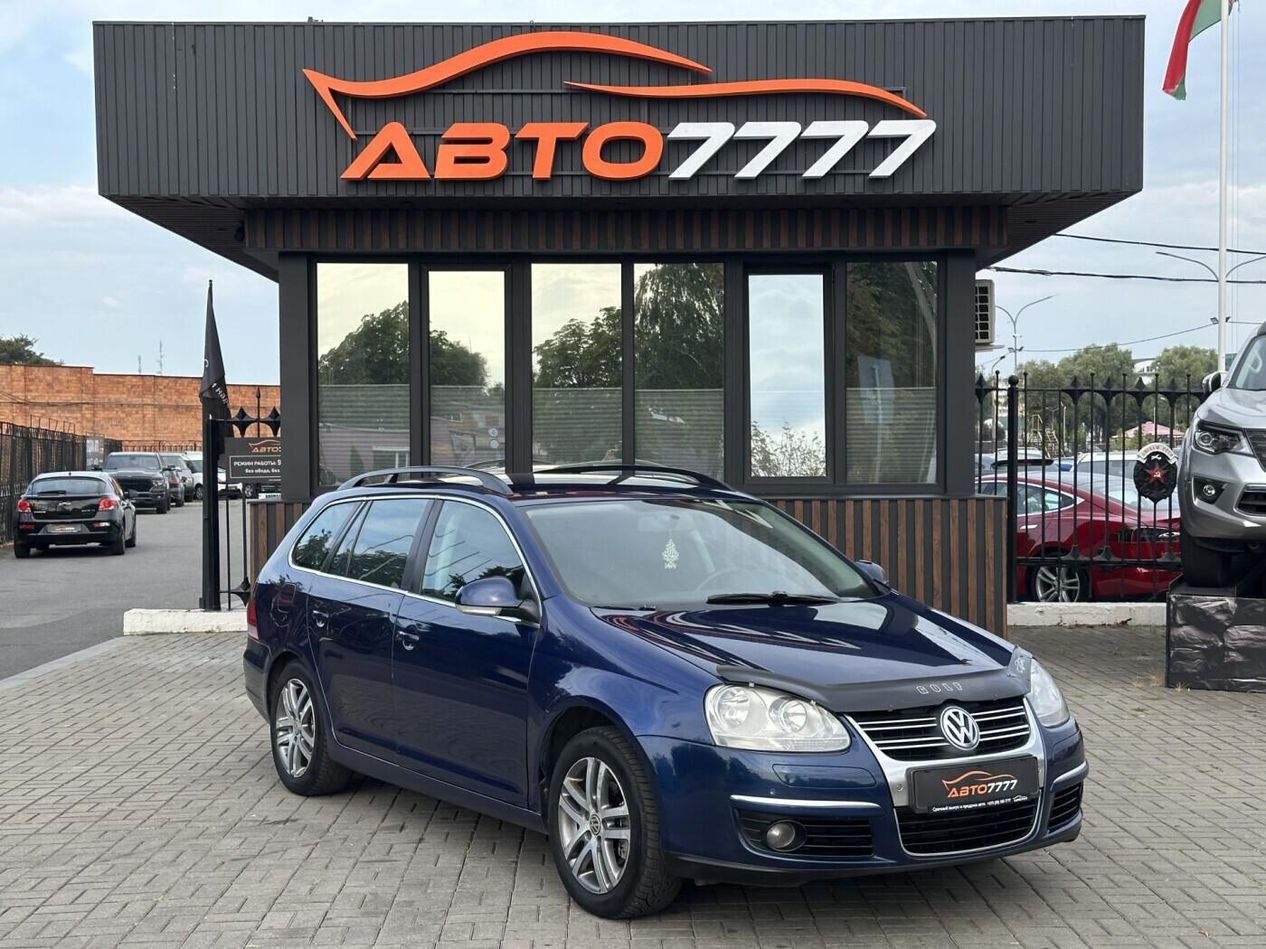Golf_2003-2009: (239, 469, 1092, 919)
